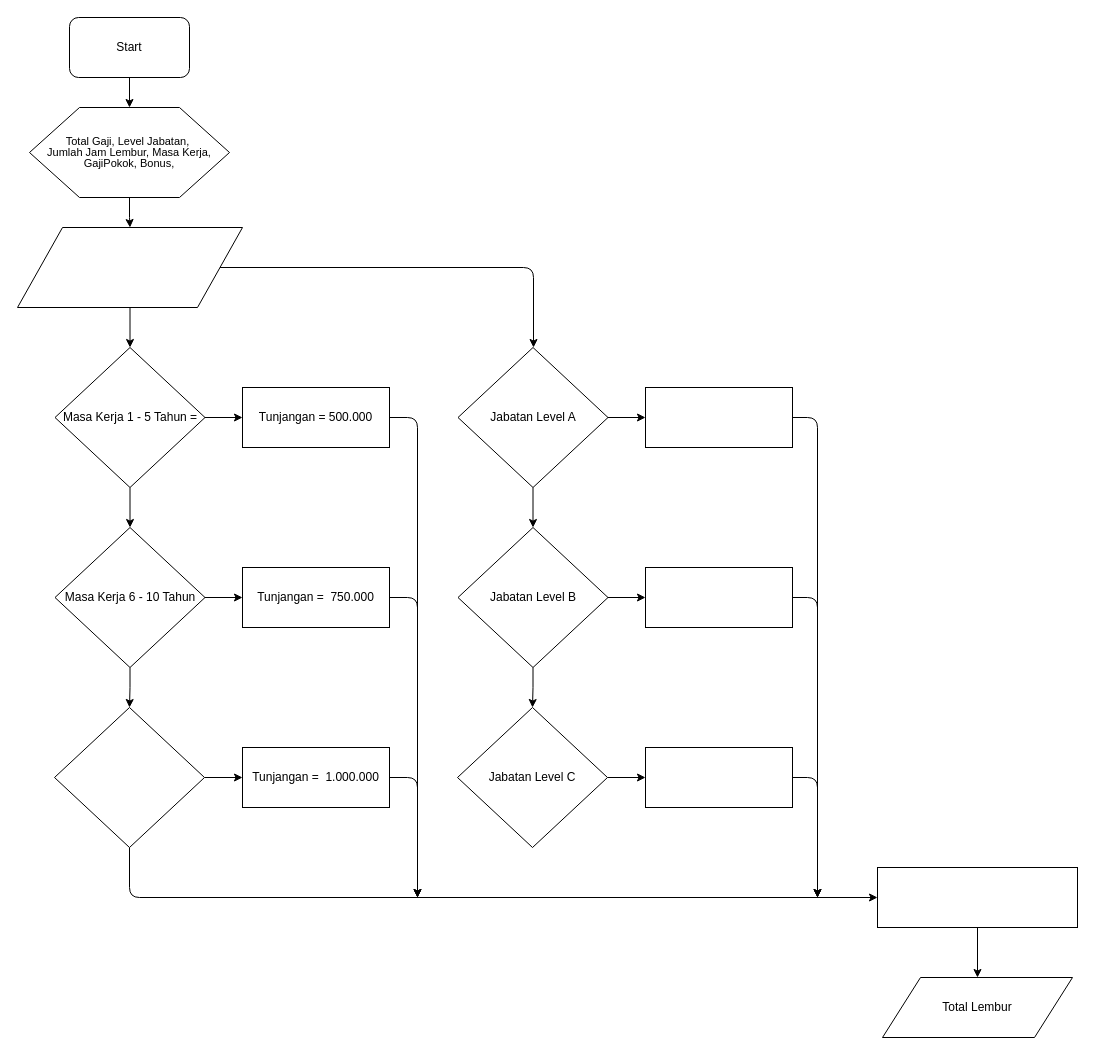
This 1095x1055 diagram has some shape labels left out. The shapes that lost their labels are listed below. From the top down, each one's centre as x and y in pixels, then its label:
the point at 129,267: Input Masa Kerja Karyawan Level Jabatan, Jumlah Jam Lembur
the point at 718,417: Gapok = 5.000.000
the point at 718,597: Gapok = 4.000.000
the point at 129,777: Masa Kerja > 10 Tahun
the point at 718,777: Gapok = 3.000.000
the point at 977,897: 15 x 650000
